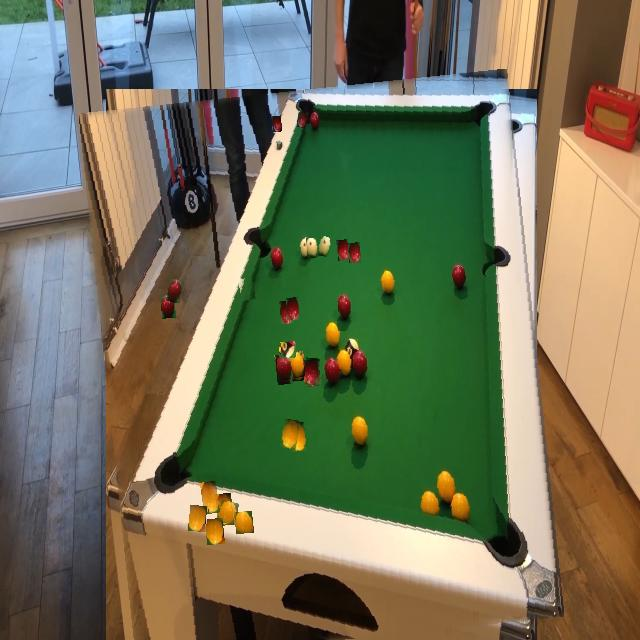Ball: (201, 482, 219, 514), (281, 419, 299, 448), (189, 506, 208, 532), (218, 501, 238, 525), (275, 354, 292, 381), (290, 352, 306, 378), (167, 278, 183, 303), (299, 323, 315, 348), (239, 277, 255, 301), (305, 358, 319, 385), (286, 297, 299, 320), (318, 237, 331, 257), (349, 242, 361, 263), (281, 342, 296, 358), (298, 112, 308, 128)
Billiard table: (92, 78, 550, 640)
